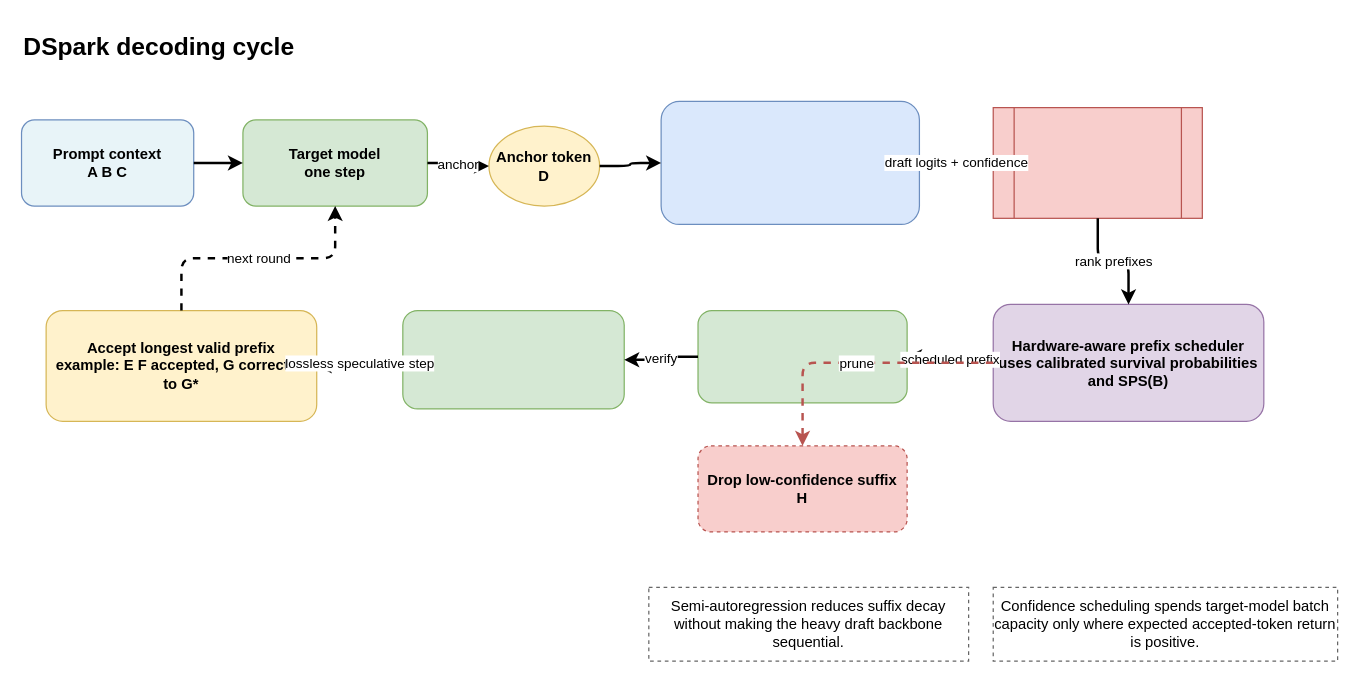
Image size: 1359x683. Some labels were removed from this diagram. Each missing label, with the box of its shape:
Draft block E F G H confidence c1..c4: (992, 106, 1202, 218)
DSpark drafter parallel backbone + lightweight sequential head: (660, 100, 919, 224)
Keep high-return prefix E F G: (697, 309, 907, 403)
Target verification parallel check of kept prefix: (402, 309, 624, 409)
